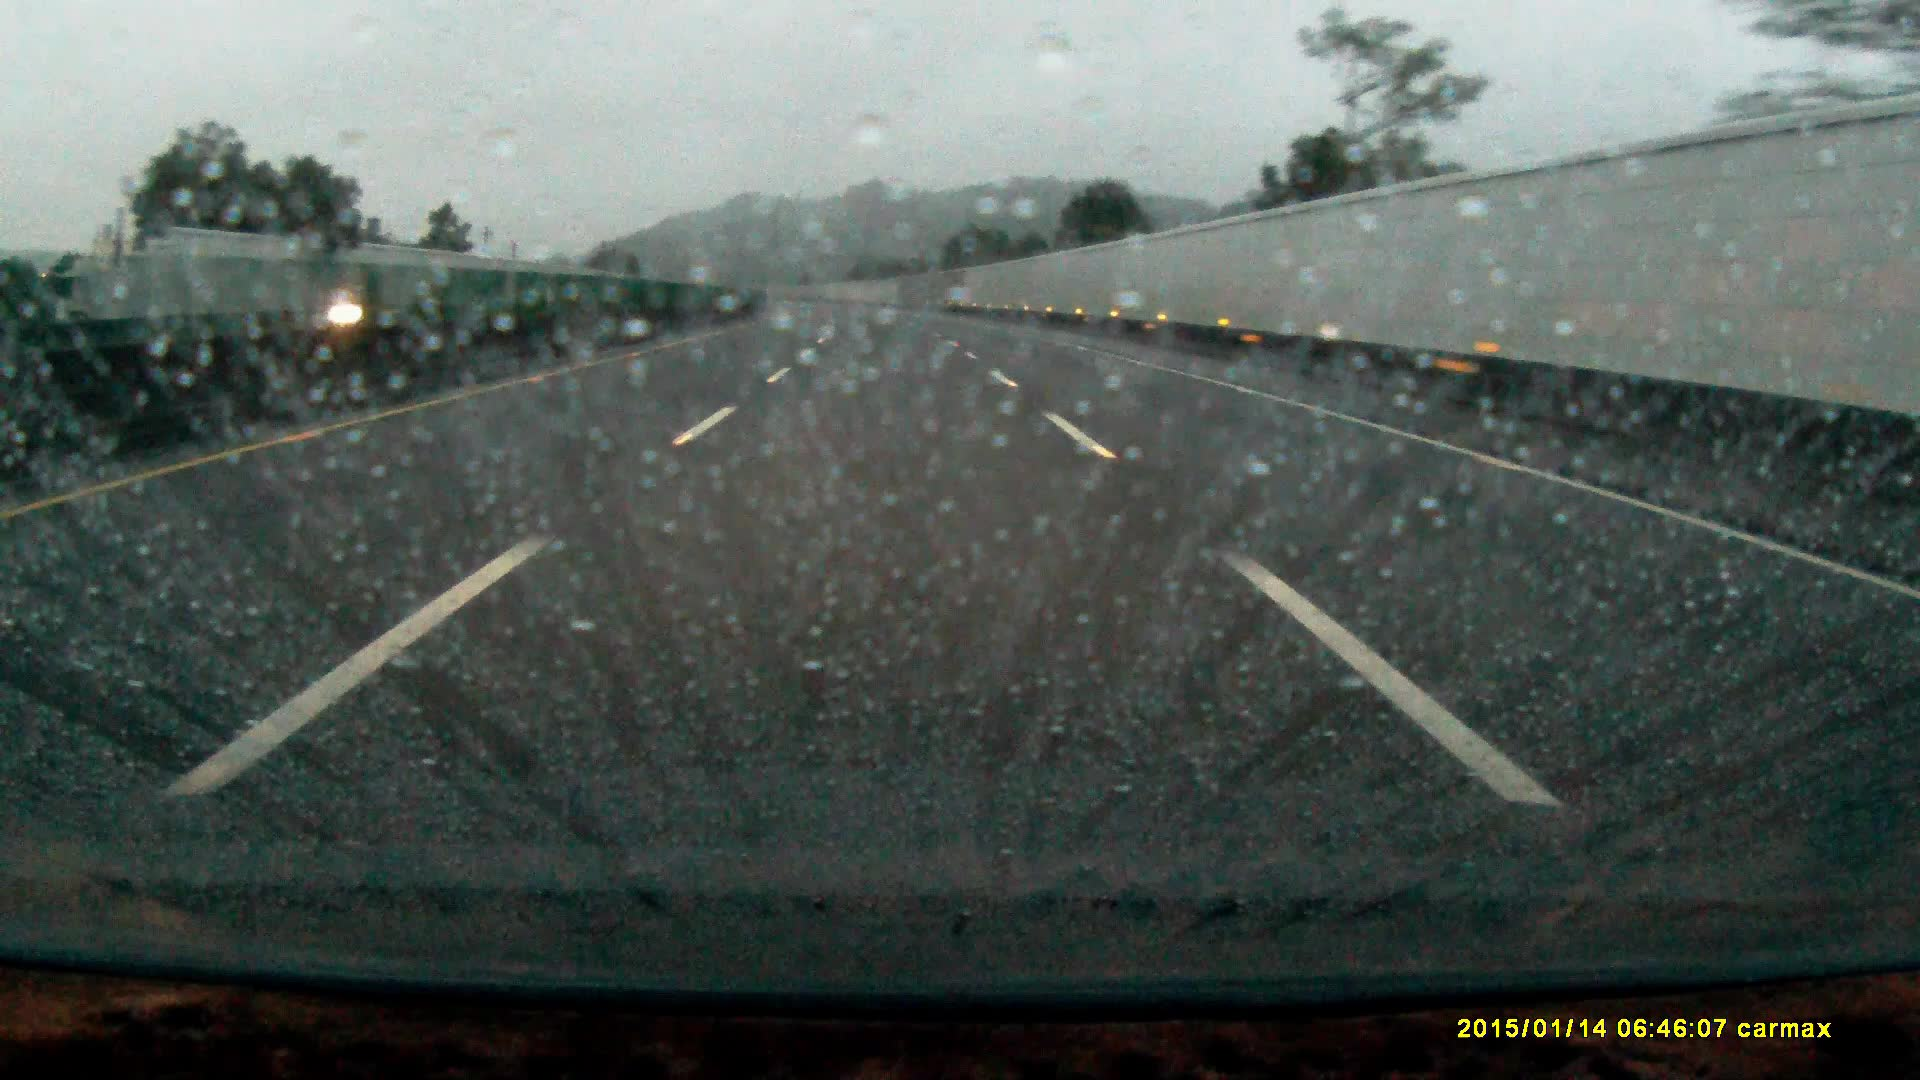vehicle: (291, 290, 396, 336)
